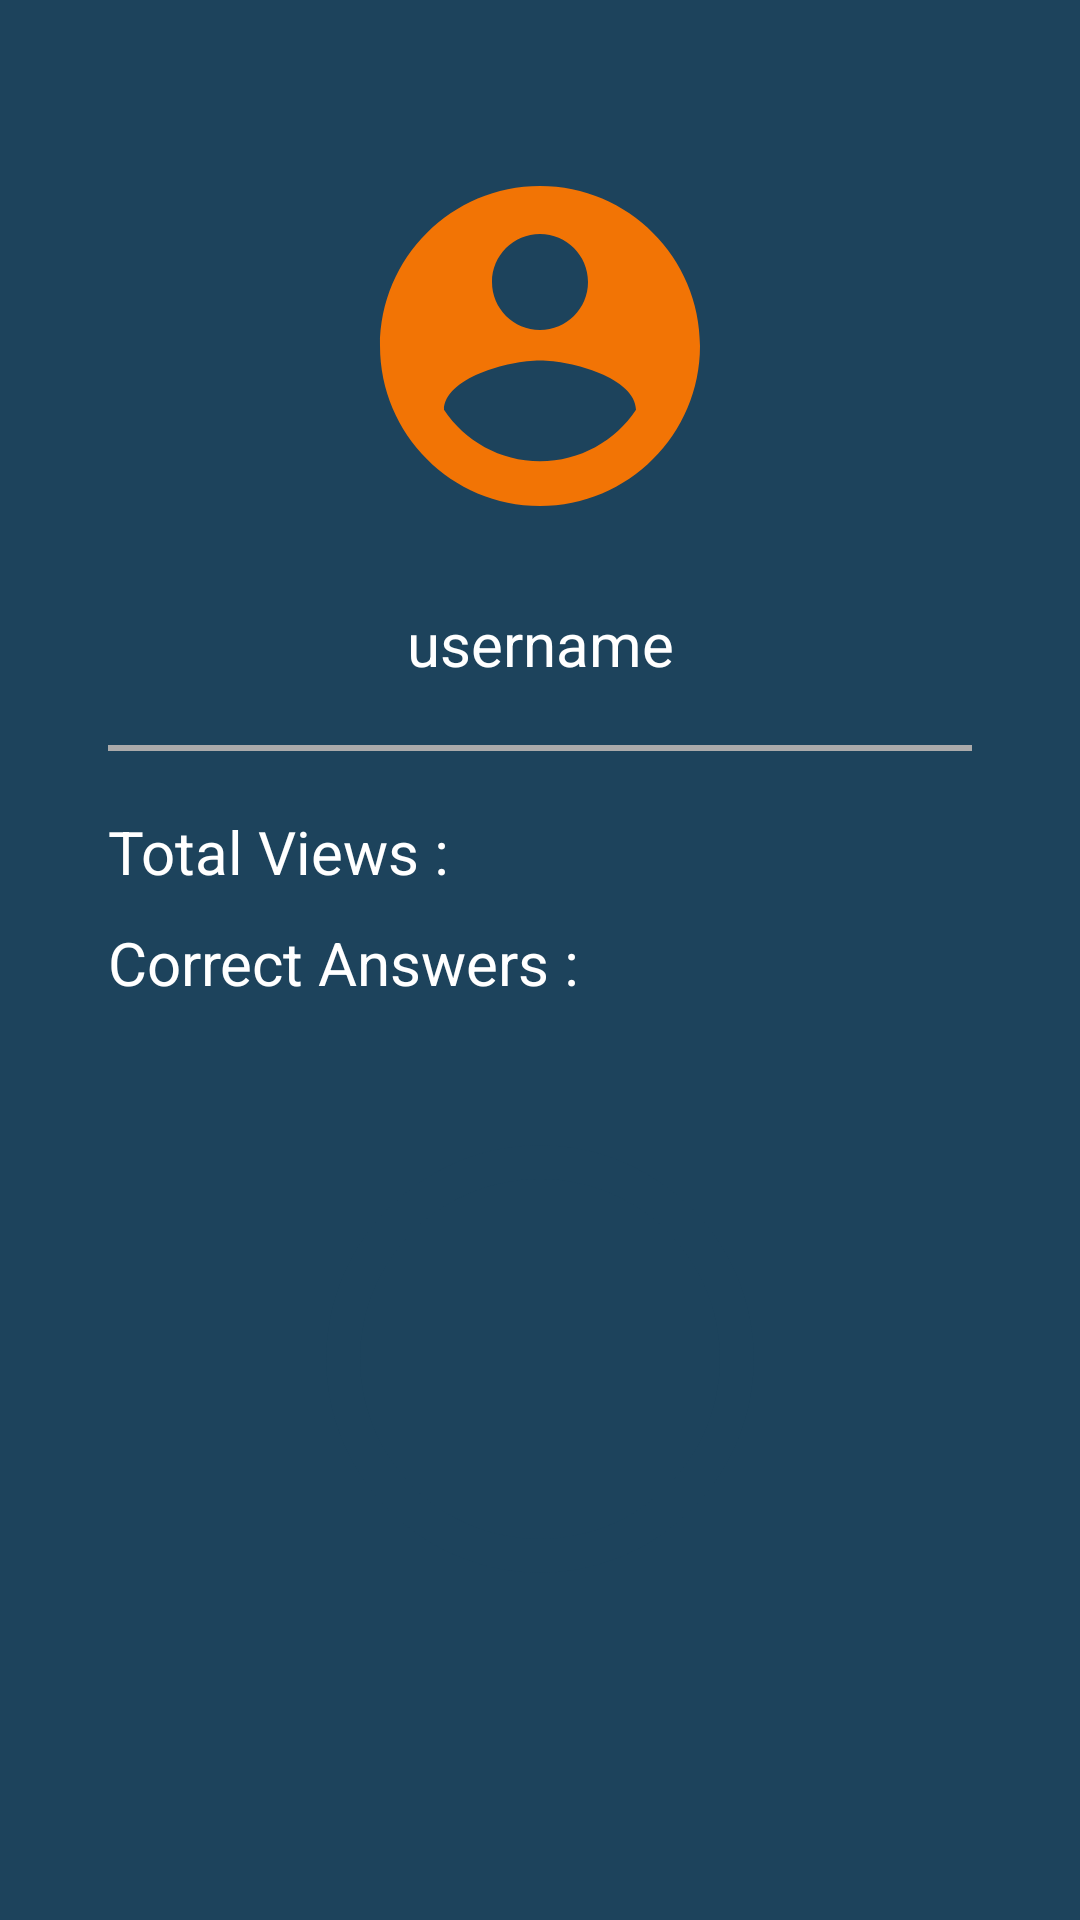

Screen size 1080 × 1920. Icon name, then its box in pixels as (x1, y1, x2, y2):
profile: (380, 186, 700, 506)
